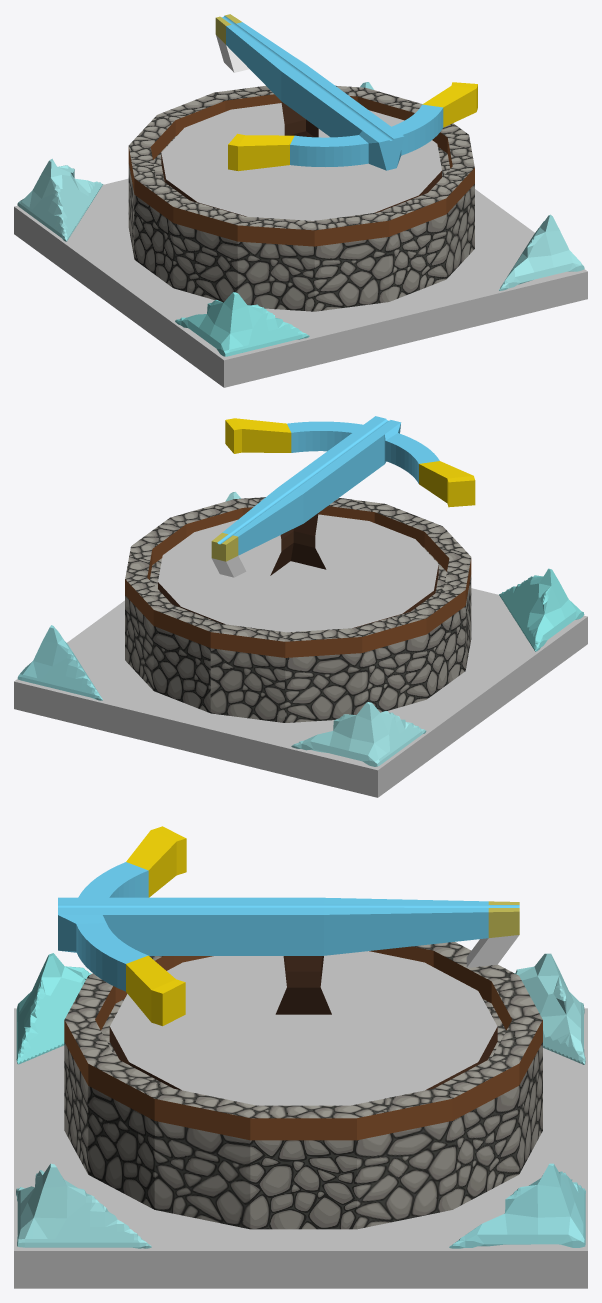
Rendered from CrossbowIce.fbx.
3 renders of one model, top to bottom at view 1: azimuth 30°, elevation 25°; view 2: azimuth 150°, elevation 25°; view 3: azimuth 270°, elevation 25°, orthographic. The views are drawn at different scales.
Visible parts, largest first — view 1: Cylinder.002, Cube.011, Cylinder.001, Cube.009, Cone.001, Cone.002, Cone, Cube.010; view 2: Cylinder.002, Cube.011, Cylinder.001, Cube.009, Cone.002, Cone.001, Cone.003, Cube.010; view 3: Cylinder.002, Cube.011, Cylinder.001, Cube.009, Cone, Cone.003, Cone.001, Cone.002, Cube.010.
Boxes of the visible parts, x1,y1,x2,y2 form: Cylinder.002: (128,85,474,311); Cube.011: (14,178,587,387); Cylinder.001: (161,103,441,220); Cube.009: (215,14,477,171); Cone.001: (175,292,309,356); Cone.002: (17,158,103,241); Cone: (499,214,584,290); Cube.010: (281,101,318,137); Cylinder.002: (125,497,471,722); Cube.011: (14,588,587,797); Cylinder.001: (158,514,438,632); Cube.009: (211,416,475,577); Cone.002: (291,702,426,766); Cone.001: (499,568,584,651); Cone.003: (17,625,102,700); Cube.010: (270,513,326,575); Cylinder.002: (64,942,542,1229); Cube.011: (14,1008,587,1288); Cylinder.001: (109,951,497,1105); Cube.009: (58,826,519,1026); Cone: (16,1163,151,1248); Cone.003: (449,1163,585,1248); Cone.001: (16,953,91,1064); Cone.002: (514,953,585,1064); Cube.010: (275,956,331,1014).
Size of the model in its own units: 277 by 140 by 277.
